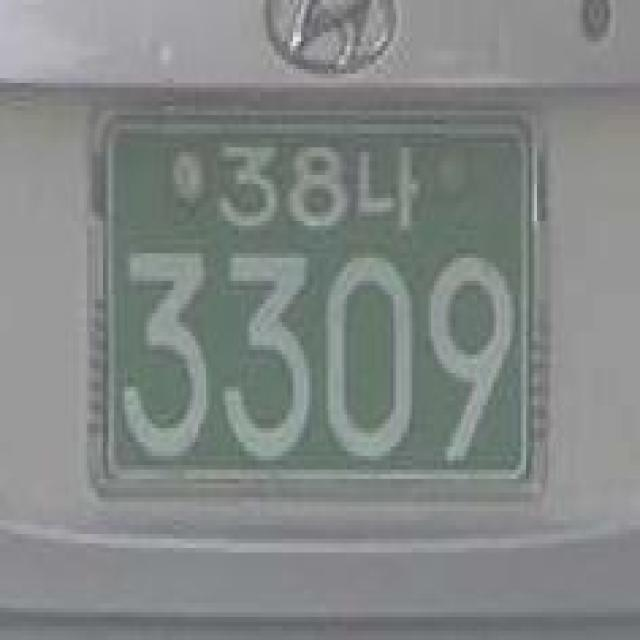illegal_plate: (70, 90, 560, 530)
